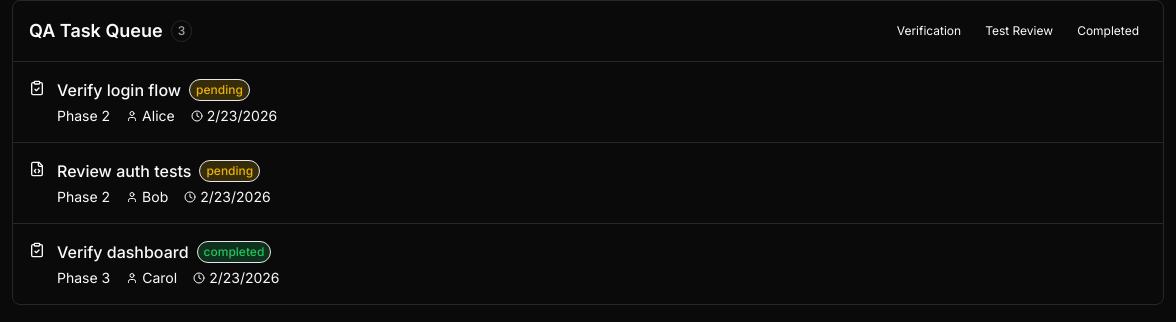
Test: QATaskQueue › filters by task type
The width and height of the screenshot is (1176, 322).
Click the button with test id "filter-verification": {"x": 929, "y": 31} x1=889 y1=19 x2=969 y2=43
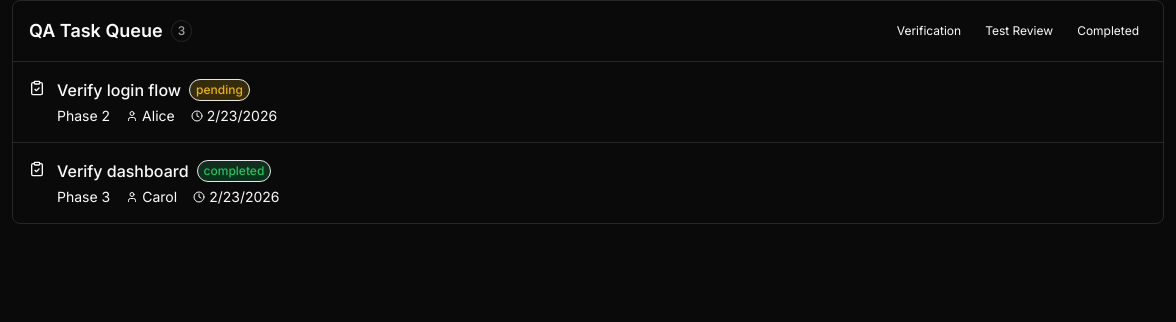
Expected: the text "Verify login flow" is shown, x1=57 y1=78 x2=181 y2=102
Expected: the button "Review auth tests" is gone
